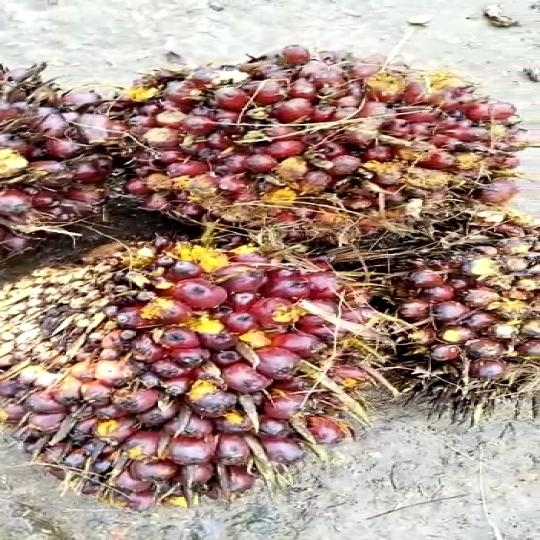masak: (0, 224, 414, 514), (127, 48, 540, 241), (327, 193, 540, 429)
